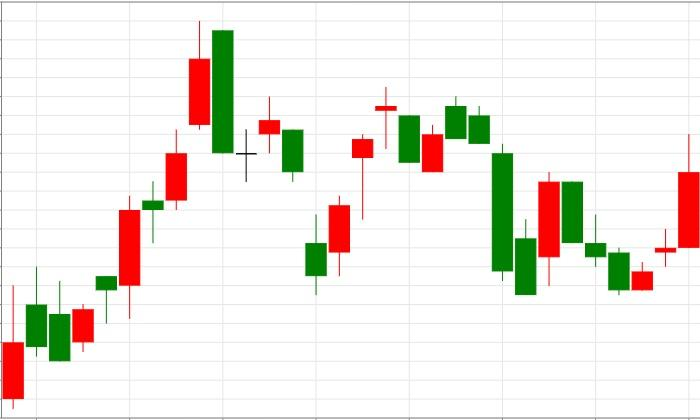evening_star_fall: (305, 88, 419, 295)
